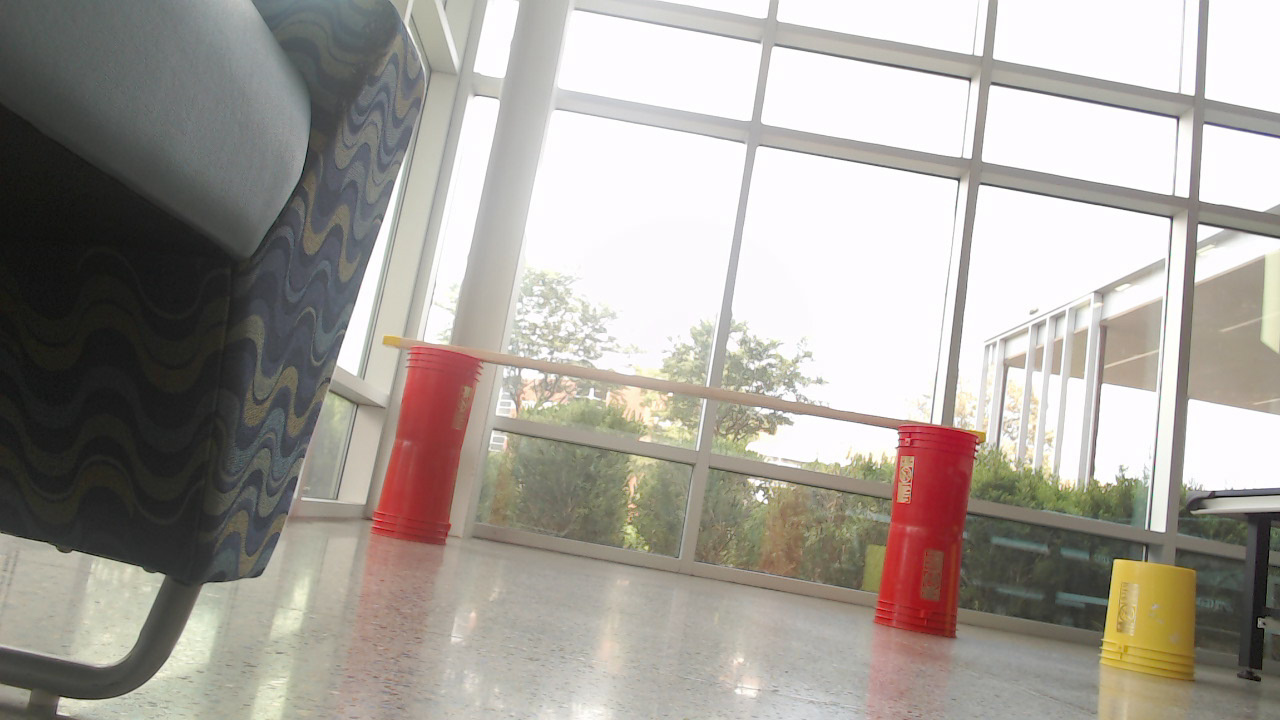red_bucket_arch: (370, 344, 991, 647)
yellow_bucket: (1096, 558, 1208, 688)
